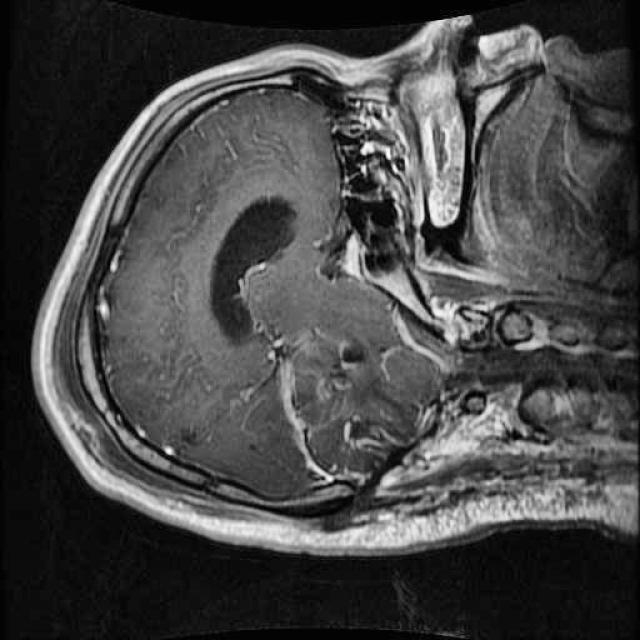Non-Tumor: (246, 306, 449, 504)
